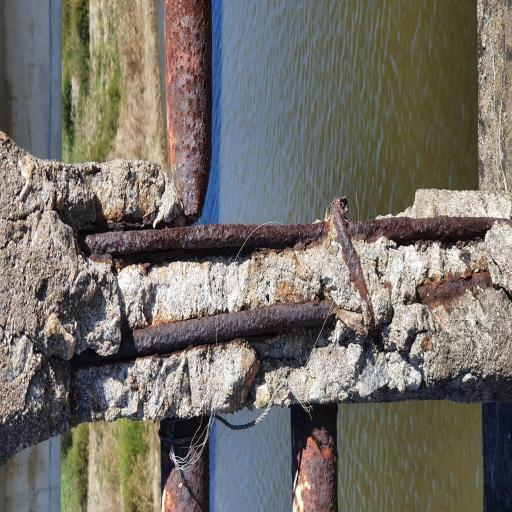exposed_rebar: (112, 300, 337, 359), (81, 220, 329, 261), (326, 197, 377, 338), (348, 215, 497, 244), (416, 272, 493, 306)
